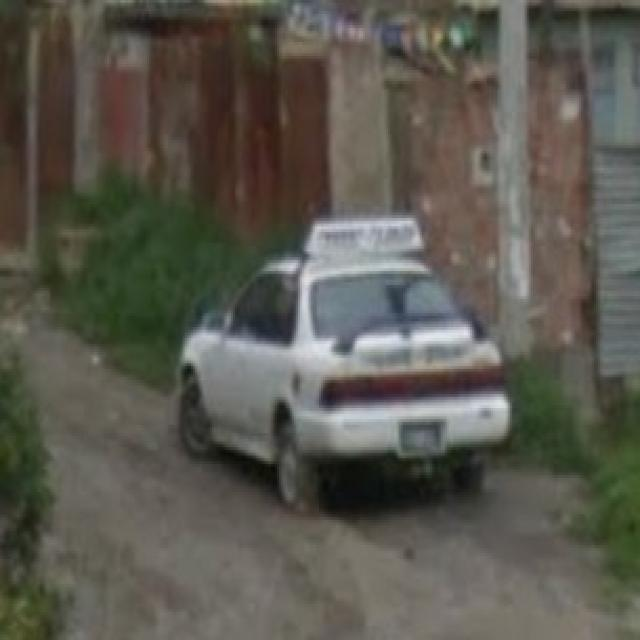cars: (187, 242, 504, 502)
